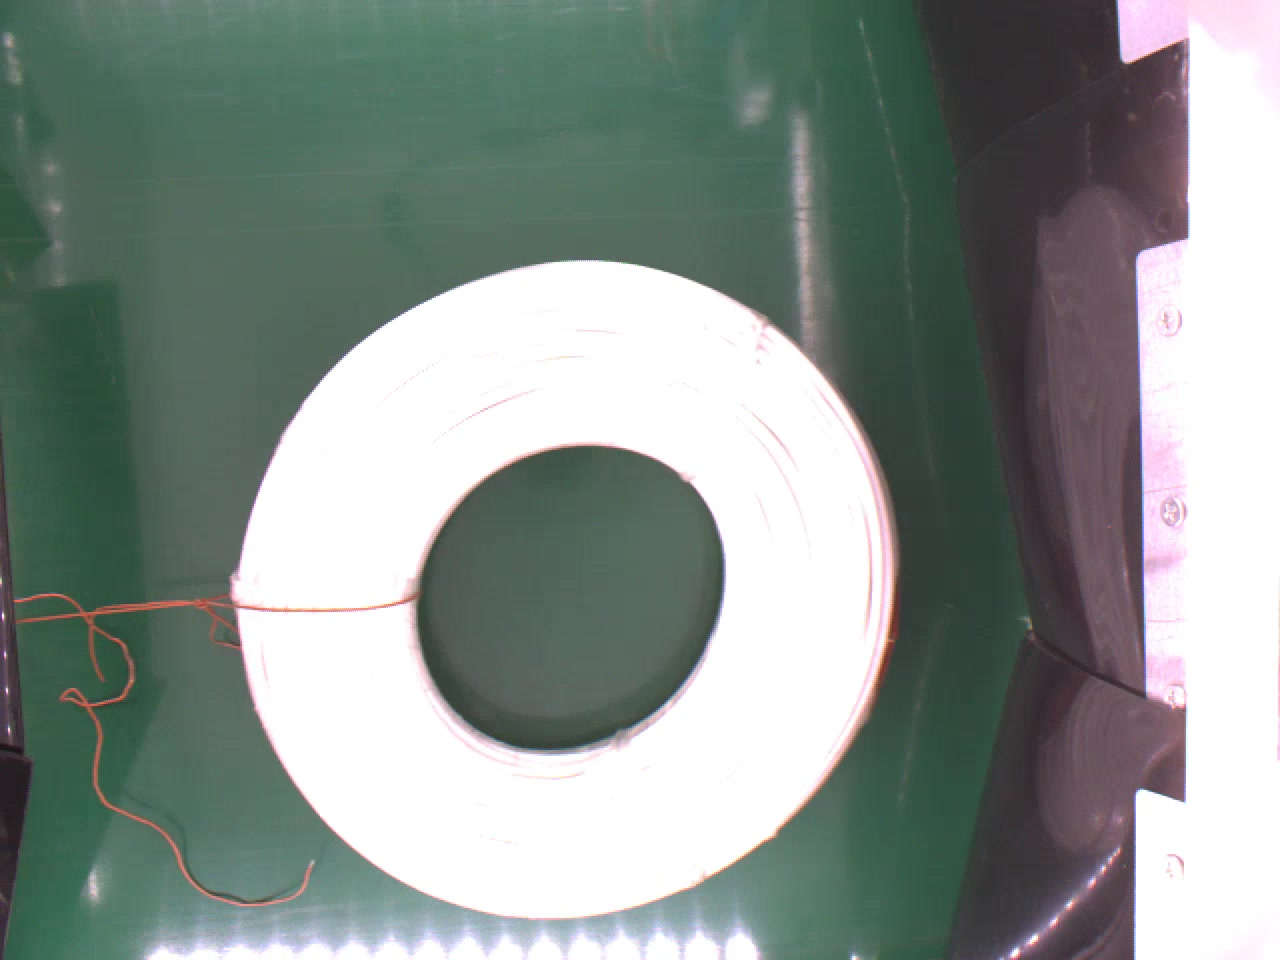white: (228, 258, 901, 920)
